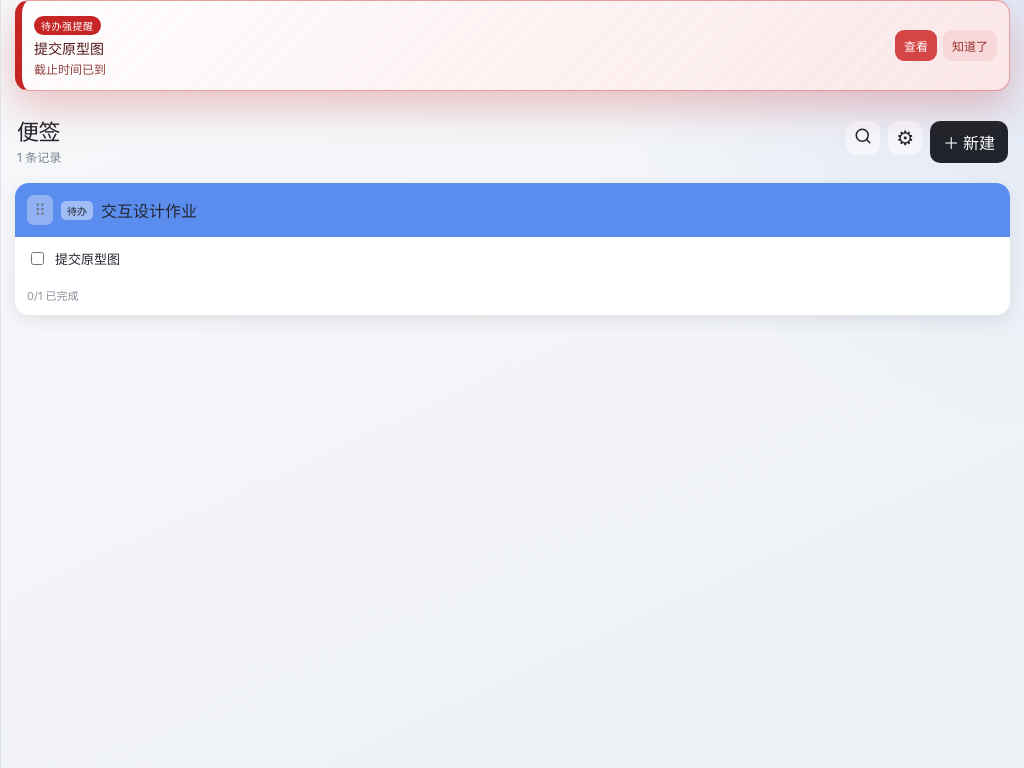
App reminder banner › shows an in-app urgent reminder and opens the related todo
Expected: the text "交互设计作业" is shown, [101,198,197,222]
Expected: the message shows "提交原型图", [34,40,104,57]
Click the button "查看".
click(916, 46)  # box [895,30,937,61]
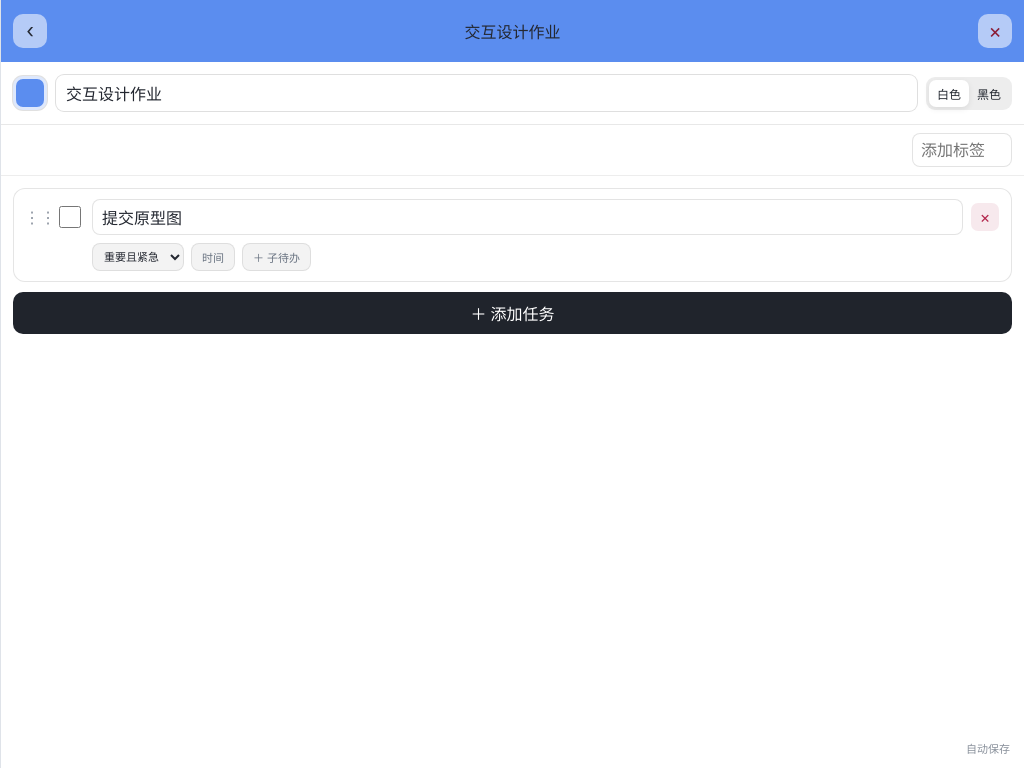
Expected: the field named "标题" holds "交互设计作业", [55,74,918,112]
